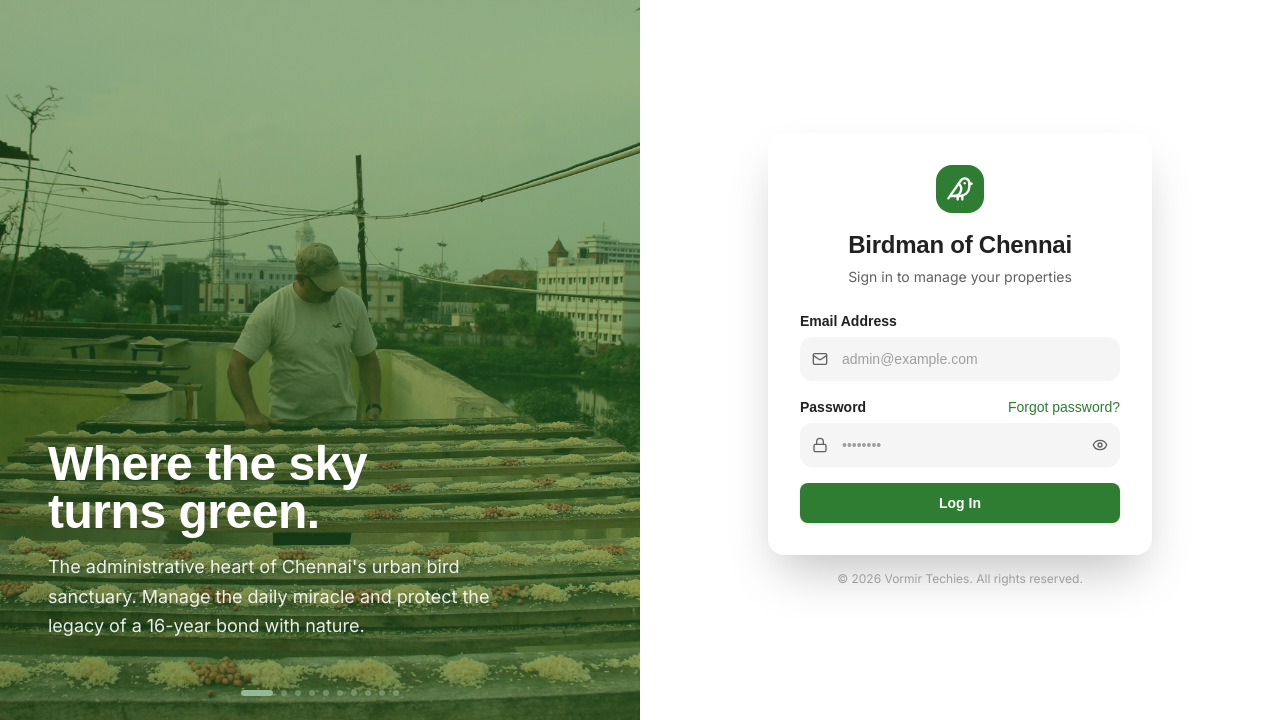
Scenario: Login Page › Forgot Password View › switches to forgot password view
What coordinates should you click on to do the following:
click the button "Forgot password?"
I would click on:
 (1064, 407)
Its box is [1008,397,1120,417].
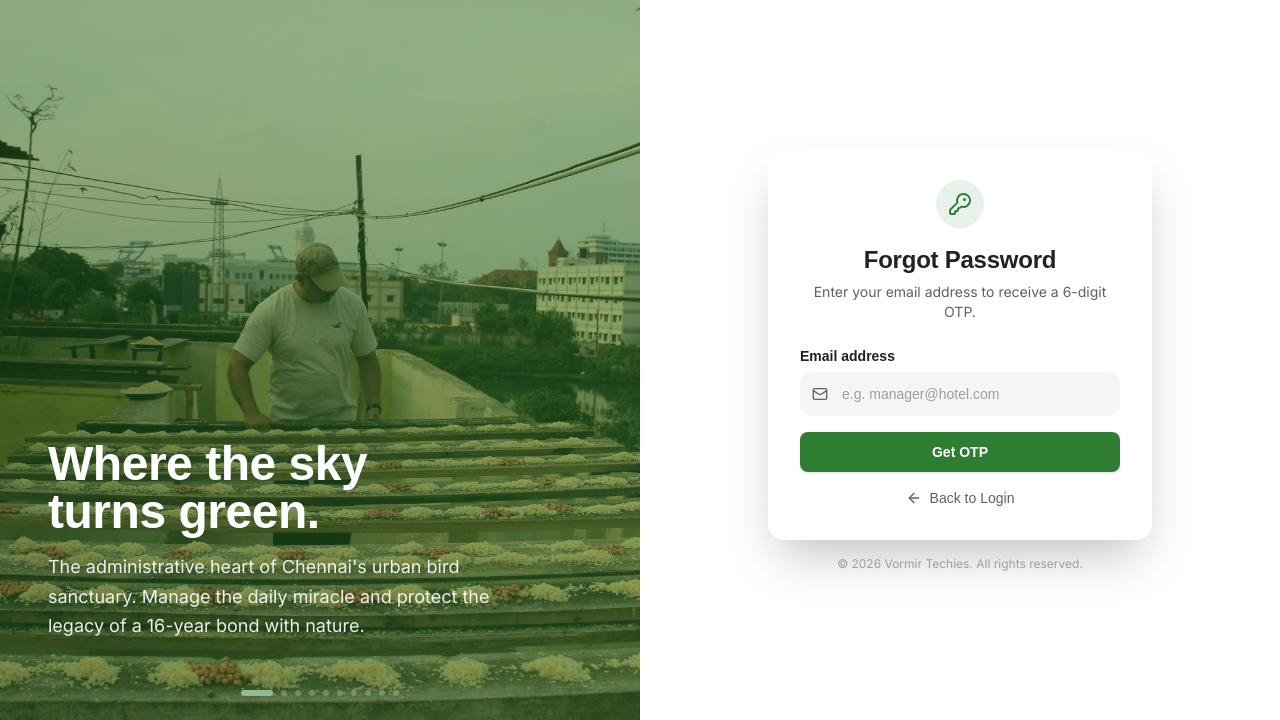
Expected: the heading "Forgot Password" is shown, [864,246,1056,273]
Expected: the text "Enter your email address to receive a 6-digit OTP." is shown, [800,282,1120,322]
